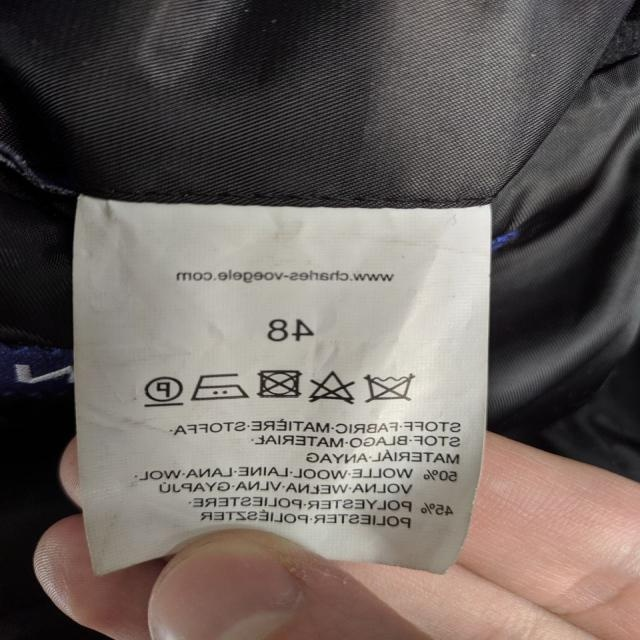DN_bleach: (309, 367, 357, 406)
DN_tumble_dry: (254, 365, 305, 403)
DN_wash: (362, 369, 417, 406)
dry_clean_any_solvent_except_trichloroethylene: (140, 372, 188, 410)
iron_medium: (191, 370, 249, 404)
